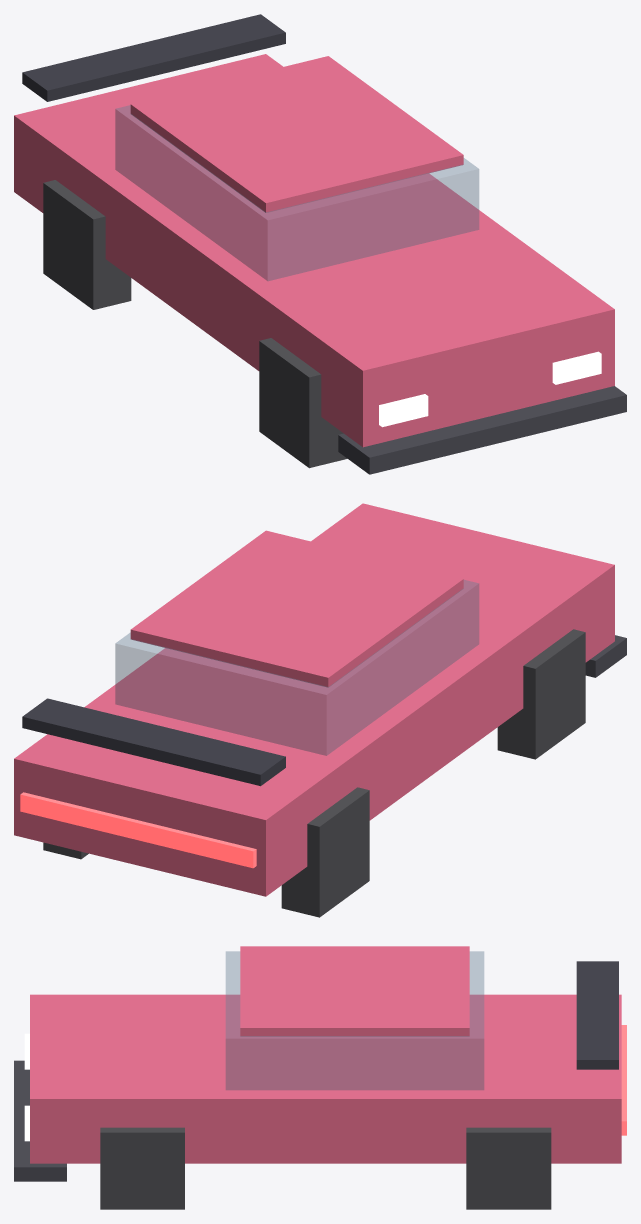
The model's file is sport.glb.
The picture shows the model from 3 angles, top to bottom: view 1: azimuth 30°, elevation 25°; view 2: azimuth 150°, elevation 25°; view 3: azimuth 270°, elevation 25°; orthographic projection. The views are drawn at different scales.
Visible parts, largest first — view 1: chassis, roof, cabin_glass, rear_spoiler, splitter, wheel_RL, wheel_FL, headlight_L, headlight_R; view 2: chassis, roof, cabin_glass, rear_spoiler, wheel_FL, wheel_RL, taillight_bar, splitter; view 3: chassis, roof, cabin_glass, wheel_RR, wheel_FR, rear_spoiler, splitter, taillight_bar.
Part boxes in pixels (<box>): chassis: <box>14,54,614,447</box>; roof: <box>130,56,463,212</box>; cabin_glass: <box>115,105,478,280</box>; rear_spoiler: <box>22,14,285,101</box>; splitter: <box>338,386,626,474</box>; wheel_RL: <box>43,180,131,309</box>; wheel_FL: <box>259,338,347,468</box>; headlight_L: <box>379,394,428,427</box>; headlight_R: <box>552,351,601,384</box>; chassis: <box>14,503,614,896</box>; roof: <box>130,530,463,687</box>; cabin_glass: <box>115,580,478,755</box>; rear_spoiler: <box>22,698,285,786</box>; wheel_FL: <box>497,629,585,759</box>; wheel_RL: <box>281,787,369,917</box>; taillight_bar: <box>20,792,256,868</box>; splitter: <box>585,635,626,677</box>; chassis: <box>30,994,621,1163</box>; roof: <box>240,946,469,1036</box>; cabin_glass: <box>226,951,483,1089</box>; wheel_RR: <box>466,1127,551,1209</box>; wheel_FR: <box>100,1127,184,1209</box>; rear_spoiler: <box>576,961,618,1069</box>; splitter: <box>14,1060,66,1181</box>; taillight_bar: <box>621,1025,626,1135</box>.
Bounding box in the file's own units: 2.04 × 1.37 × 4.62.
